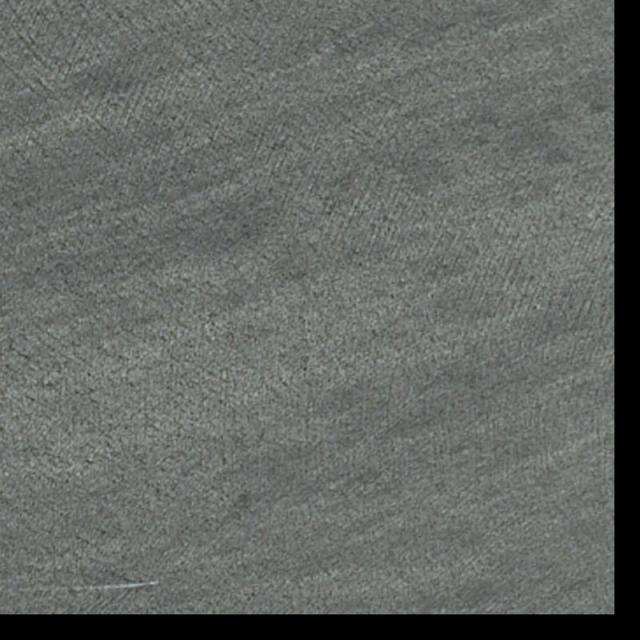ship: (150, 582, 158, 586)
